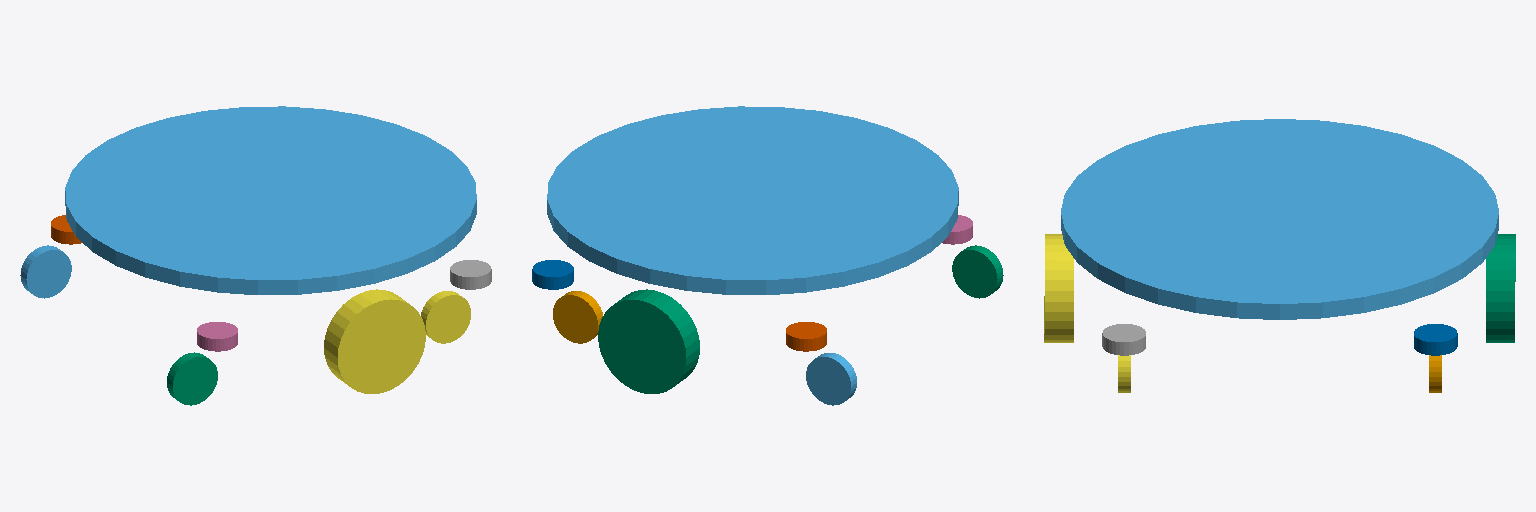
URDF robot description (floora):
<?xml version="1.0"?>
<robot name="floora">
  <link name="base_footprint" />
  <link name="base_link">
    <visual>
      <geometry>
        <cylinder radius="0.1495" length="0.012" />
      </geometry>
    </visual>
    <collision>
      <geometry>
        <cylinder radius="0.1495" length="0.012" />
      </geometry>
    </collision>
  </link>
  <link name="wheel_l">
    <visual>
      <origin rpy="1.57 0 0" />
      <geometry>
        <cylinder radius="0.037" length="0.02" />
      </geometry>
    </visual>
    <collision>
      <origin rpy="1.57 0 0" />
      <geometry>
        <cylinder radius="0.037" length="0.02" />
      </geometry>
    </collision>
  </link>
  <link name="wheel_r">
    <visual>
      <origin rpy="1.57 0 0" />
      <geometry>
        <cylinder radius="0.037" length="0.02" />
      </geometry>
    </visual>
    <collision>
      <origin rpy="1.57 0 0" />
      <geometry>
        <cylinder radius="0.037" length="0.02" />
      </geometry>
    </collision>
  </link>
  <link name="caster_fl_bearing">
    <visual>
      <geometry>
        <cylinder radius="0.015" length="0.01" />
      </geometry>
    </visual>
    <collision>
      <geometry>
        <cylinder radius="0.015" length="0.01" />
      </geometry>
    </collision>
  </link>
  <link name="caster_bl_bearing">
    <visual>
      <geometry>
        <cylinder radius="0.015" length="0.01" />
      </geometry>
    </visual>
    <collision>
      <geometry>
        <cylinder radius="0.015" length="0.01" />
      </geometry>
    </collision>
  </link>
  <link name="caster_br_bearing">
    <visual>
      <geometry>
        <cylinder radius="0.015" length="0.01" />
      </geometry>
    </visual>
    <collision>
      <geometry>
        <cylinder radius="0.015" length="0.01" />
      </geometry>
    </collision>
  </link>
  <link name="caster_fr_bearing">
    <visual>
      <geometry>
        <cylinder radius="0.015" length="0.01" />
      </geometry>
    </visual>
    <collision>
      <geometry>
        <cylinder radius="0.015" length="0.01" />
      </geometry>
    </collision>
  </link>
  <link name="caster_fl_wheel">
    <visual>
      <origin rpy="1.57 0 0" />
      <geometry>
        <cylinder radius="0.019" length="0.008625" />
      </geometry>
    </visual>
    <collision>
      <origin rpy="1.57 0 0" />
      <geometry>
        <cylinder radius="0.019" length="0.008625" />
      </geometry>
    </collision>
  </link>
  <link name="caster_bl_wheel">
    <visual>
      <origin rpy="1.57 0 0" />
      <geometry>
        <cylinder radius="0.019" length="0.008625" />
      </geometry>
    </visual>
    <collision>
      <origin rpy="1.57 0 0" />
      <geometry>
        <cylinder radius="0.019" length="0.008625" />
      </geometry>
    </collision>
  </link>
  <link name="caster_br_wheel">
    <visual>
      <origin rpy="1.57 0 0" />
      <geometry>
        <cylinder radius="0.019" length="0.008625" />
      </geometry>
    </visual>
    <collision>
      <origin rpy="1.57 0 0" />
      <geometry>
        <cylinder radius="0.019" length="0.008625" />
      </geometry>
    </collision>
  </link>
  <link name="caster_fr_wheel">
    <visual>
      <origin rpy="1.57 0 0" />
      <geometry>
        <cylinder radius="0.019" length="0.008625" />
      </geometry>
    </visual>
    <collision>
      <origin rpy="1.57 0 0" />
      <geometry>
        <cylinder radius="0.019" length="0.008625" />
      </geometry>
    </collision>
  </link>
  <joint name="base_footprint_to_base_link" type="fixed">
    <parent link="base_footprint" />
    <child link="base_link" />
    <origin xyz="0 0 0.089" />
  </joint>
  <joint name="base_link_to_wheel_l" type="continuous">
    <parent link="base_link" />
    <child link="wheel_l" />
    <origin xyz="0 0.1505 -0.052" />
    <axis xyz="0 1 0" />
  </joint>
  <joint name="base_link_to_wheel_r" type="continuous">
    <parent link="base_link" />
    <child link="wheel_r" />
    <origin xyz="0 -0.1505 -0.052" />
    <axis xyz="0 1 0" />
  </joint>
  <joint name="base_link_to_caster_fl_bearing" type="continuous">
    <parent link="base_link" />
    <child link="caster_fl_bearing" />
    <origin xyz="0.106 0.106 -0.041" />
    <axis xyz="0 0 1" />
  </joint>
  <joint name="caster_fl_bearing_to_caster_fl_wheel" type="continuous">
    <parent link="caster_fl_bearing" />
    <child link="caster_fl_wheel" />
    <origin xyz="-0.021 0 -0.029" />
    <axis xyz="0 1 0" />
  </joint>
  <joint name="base_link_to_caster_bl_bearing" type="continuous">
    <parent link="base_link" />
    <child link="caster_bl_bearing" />
    <origin xyz="-0.106 0.106 -0.041" />
    <axis xyz="0 0 1" />
  </joint>
  <joint name="caster_bl_bearing_to_caster_bl_wheel" type="continuous">
    <parent link="caster_bl_bearing" />
    <child link="caster_bl_wheel" />
    <origin xyz="-0.021 0 -0.029" />
    <axis xyz="0 1 0" />
  </joint>
  <joint name="base_link_to_caster_br_bearing" type="continuous">
    <parent link="base_link" />
    <child link="caster_br_bearing" />
    <origin xyz="-0.106 -0.106 -0.041" />
    <axis xyz="0 0 1" />
  </joint>
  <joint name="caster_br_bearing_to_caster_br_wheel" type="continuous">
    <parent link="caster_br_bearing" />
    <child link="caster_br_wheel" />
    <origin xyz="-0.021 0 -0.029" />
    <axis xyz="0 1 0" />
  </joint>
  <joint name="base_link_to_caster_fr_bearing" type="continuous">
    <parent link="base_link" />
    <child link="caster_fr_bearing" />
    <origin xyz="0.106 -0.106 -0.041" />
    <axis xyz="0 0 1" />
  </joint>
  <joint name="caster_fr_bearing_to_caster_fr_wheel" type="continuous">
    <parent link="caster_fr_bearing" />
    <child link="caster_fr_wheel" />
    <origin xyz="-0.021 0 -0.029" />
    <axis xyz="0 1 0" />
  </joint>
</robot>

--- Facts derived from the render (not from the file) ---
3 views of the same robot in one strip: view 1: azimuth 30°, elevation 25°; view 2: azimuth 150°, elevation 25°; view 3: azimuth 270°, elevation 25° (orthographic).
Robot: floora — 12 links, 11 joints (10 continuous, 1 fixed); root link base_footprint; default pose: every joint at zero.
Links seen in each view (by area): view 1: base_link, wheel_r, caster_bl_wheel, caster_br_wheel, caster_fr_wheel, caster_fr_bearing, caster_br_bearing, caster_bl_bearing; view 2: base_link, wheel_l, caster_br_wheel, caster_bl_wheel, caster_fl_wheel, caster_fl_bearing, caster_bl_bearing, caster_br_bearing; view 3: base_link, wheel_l, wheel_r, caster_fl_bearing, caster_fr_bearing.
Link boxes in pixels (<box>): base_link: <box>65,106,476,294</box>; wheel_r: <box>324,289,425,393</box>; caster_bl_wheel: <box>20,245,71,298</box>; caster_br_wheel: <box>167,352,217,405</box>; caster_fr_wheel: <box>421,291,470,343</box>; caster_fr_bearing: <box>450,260,491,289</box>; caster_br_bearing: <box>197,322,237,351</box>; caster_bl_bearing: <box>51,215,81,244</box>; base_link: <box>547,106,958,294</box>; wheel_l: <box>598,289,699,393</box>; caster_br_wheel: <box>952,245,1003,298</box>; caster_bl_wheel: <box>806,353,856,405</box>; caster_fl_wheel: <box>553,291,602,343</box>; caster_fl_bearing: <box>532,260,573,289</box>; caster_bl_bearing: <box>786,322,826,351</box>; caster_br_bearing: <box>942,215,972,244</box>; base_link: <box>1061,119,1498,319</box>; wheel_l: <box>1486,234,1515,342</box>; wheel_r: <box>1044,234,1073,342</box>; caster_fl_bearing: <box>1414,324,1457,355</box>; caster_fr_bearing: <box>1102,324,1145,355</box>.
Bounding box of the posed robot: 0.299 × 0.3211 × 0.095 m (x, y, z).
Geometry: primitives only (box / cylinder / sphere), no mesh files.
